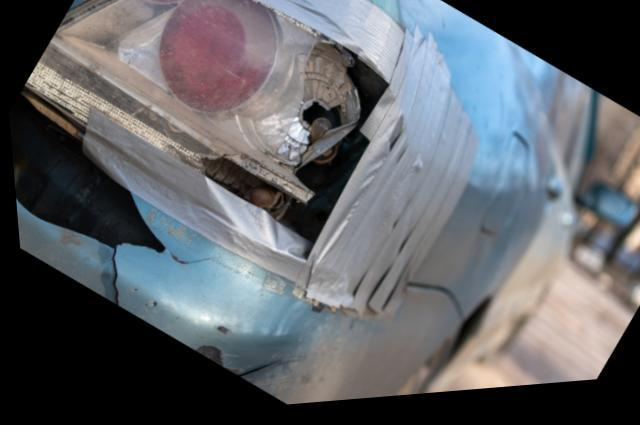crack: (7, 91, 216, 307)
lamp broken: (23, 0, 380, 246)
scratch: (183, 342, 229, 378)
